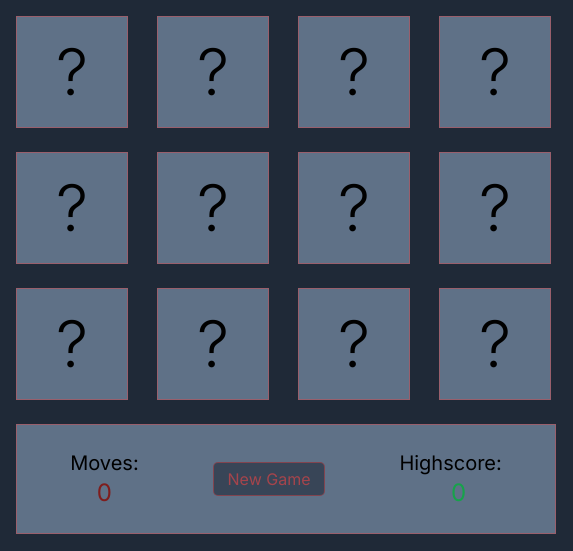
it: Make sure card are acting as expected › Check that the two clicked cards unflip if no match
Click the text with test id "card" at (72, 72), box [16,16,128,128]
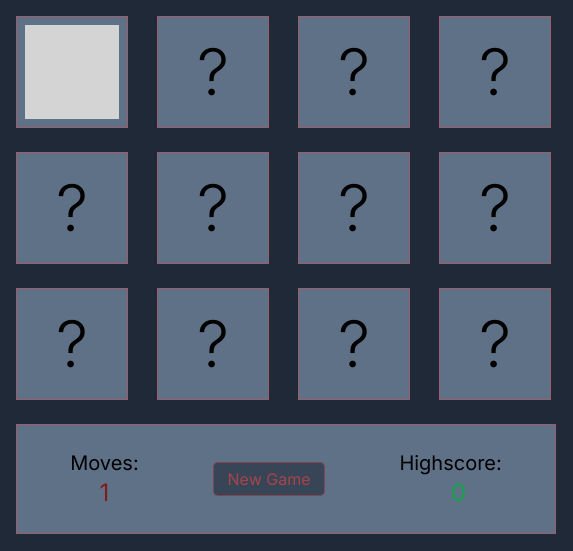
Click the text with test id "card" at (213, 72), box [157,16,269,128]
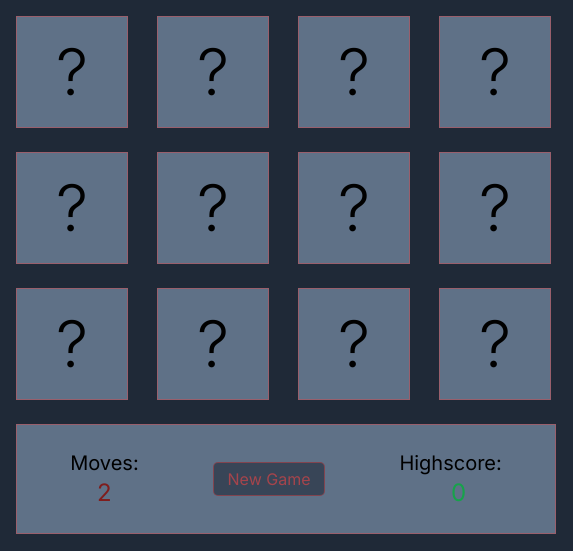
Now no pictures with test id "card-image" are shown
